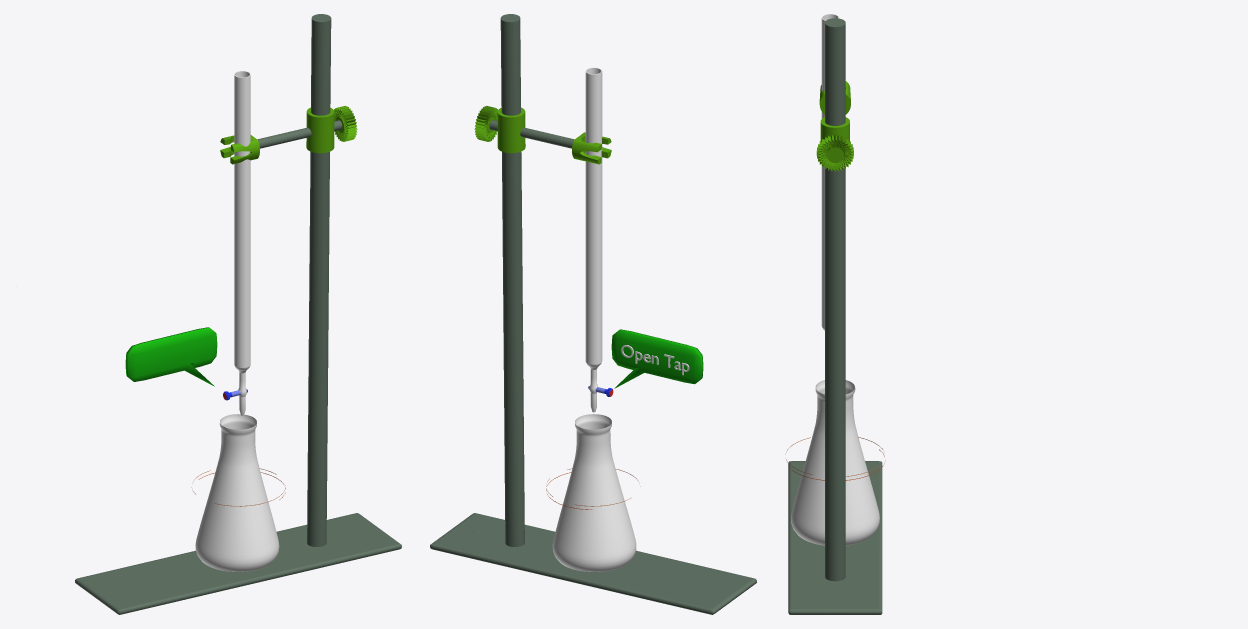
File: titeration3.glb
3 renders of one model, left to right at view 1: azimuth 30°, elevation 25°; view 2: azimuth 150°, elevation 25°; view 3: azimuth 270°, elevation 25°, orthographic. The views are drawn at different scales.
Parts seen in each view (by area): view 1: Plane, 4000 mL ER.001, Burette, tapAlert.001, Cylinder.001, Cylinder.005, Cylinder.003; view 2: Plane, 4000 mL ER.001, Burette, tapAlert.001, Cylinder.001, Cylinder.005, Cylinder.003; view 3: Plane, 4000 mL ER.001, Cylinder.003, Burette.
Part boxes in pixels (bbox=[...]): Plane: bbox=[75, 14, 401, 614]; 4000 mL ER.001: bbox=[195, 414, 279, 571]; Burette: bbox=[234, 71, 250, 415]; tapAlert.001: bbox=[125, 327, 217, 386]; Cylinder.001: bbox=[306, 107, 334, 153]; Cylinder.005: bbox=[220, 135, 259, 164]; Cylinder.003: bbox=[334, 106, 357, 141]; Plane: bbox=[430, 14, 756, 614]; 4000 mL ER.001: bbox=[552, 414, 636, 571]; Burette: bbox=[585, 67, 602, 412]; tapAlert.001: bbox=[611, 329, 703, 388]; Cylinder.001: bbox=[497, 107, 525, 153]; Cylinder.005: bbox=[572, 132, 611, 164]; Cylinder.003: bbox=[474, 106, 497, 141]; Plane: bbox=[788, 18, 882, 614]; 4000 mL ER.001: bbox=[791, 380, 879, 545]; Cylinder.003: bbox=[816, 134, 853, 171]; Burette: bbox=[821, 14, 839, 330].
Size of what is drawn, in the model's own units: 2.01 by 3.57 by 2.58.
